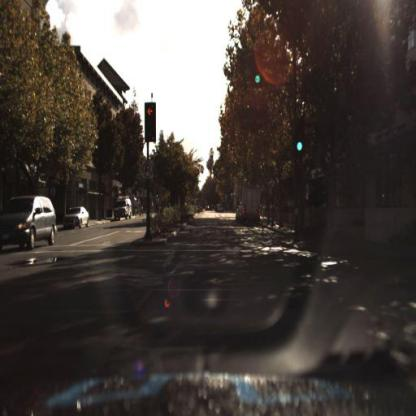car: (2, 193, 58, 253), (241, 182, 264, 228), (63, 205, 92, 233), (112, 194, 134, 225)
trafficLight: (254, 55, 264, 91)
trafficLight-Green: (294, 124, 306, 159), (253, 60, 263, 91)
trafficLight-RedLeft: (145, 101, 157, 143), (145, 102, 155, 141)
truck: (239, 180, 263, 227)
